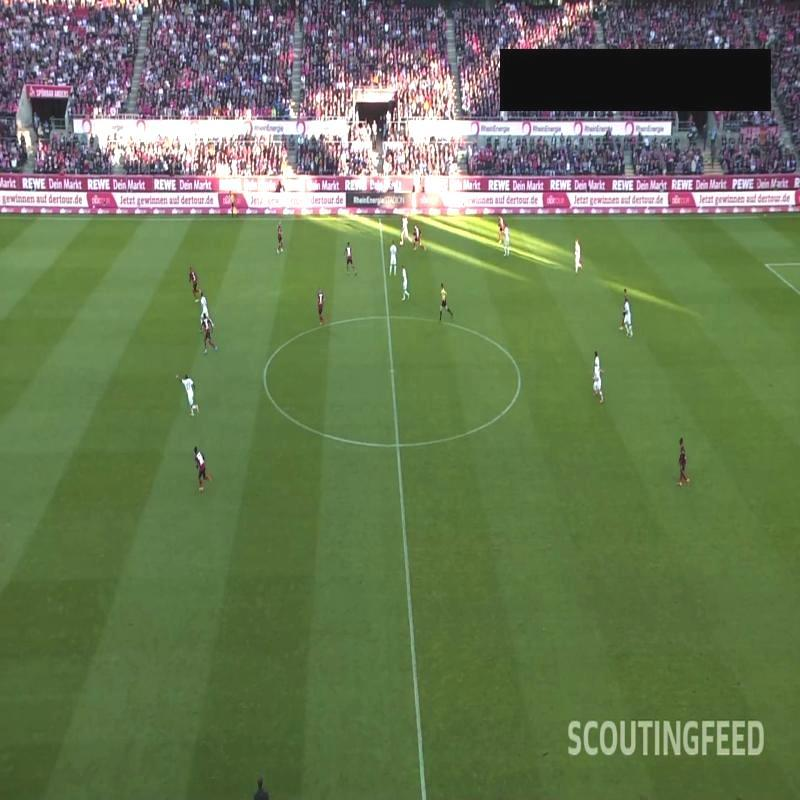13: (372, 212, 386, 225)
14: (380, 309, 396, 325)
15: (390, 436, 408, 454)
9: (760, 256, 774, 270)
c: (511, 363, 526, 379), (256, 372, 270, 386)
